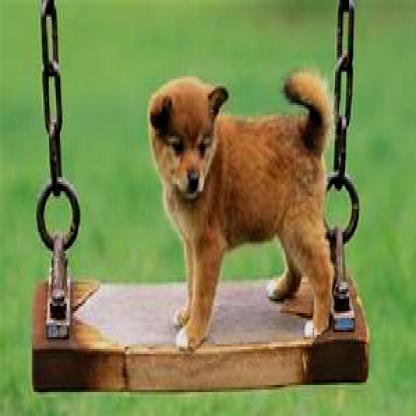dog: (146, 72, 334, 356)
